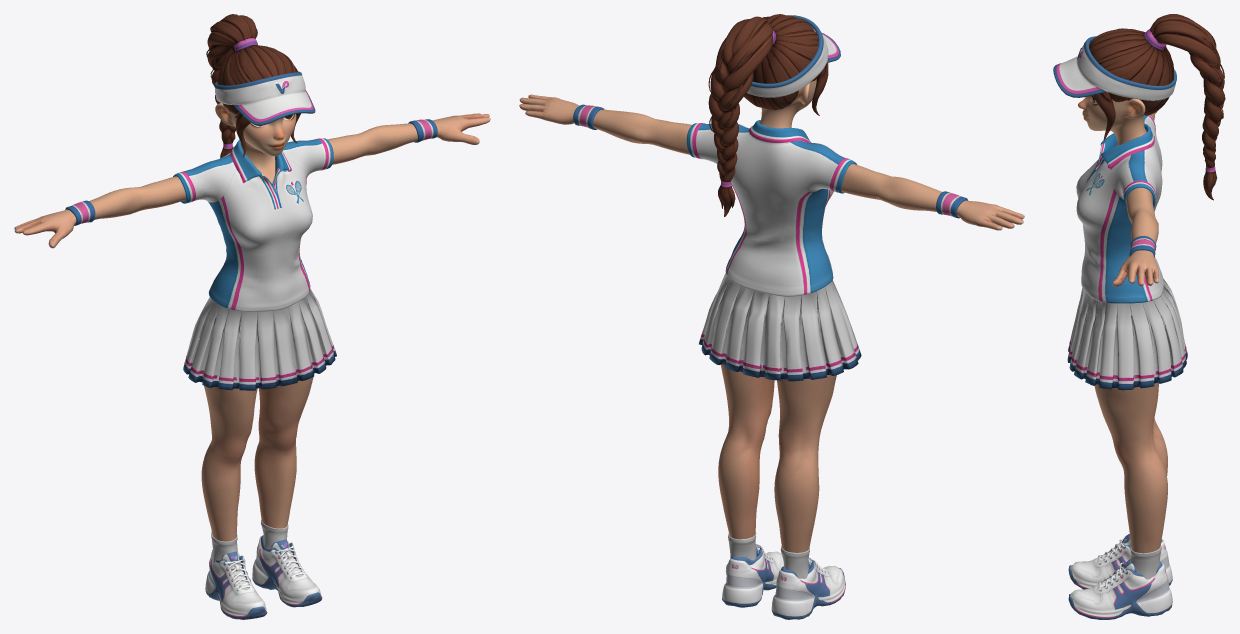
The model's file is carol_tennis_player_girl__animated_3d_character.glb.
The picture shows the model from 3 angles, left to right: view 1: azimuth 30°, elevation 25°; view 2: azimuth 150°, elevation 25°; view 3: azimuth 270°, elevation 25°; orthographic projection. The views are drawn at different scales.
Visible parts, largest first — view 1: body_8, shirt_4, skirt_3, sneakers_2, hair_6, cap_7, head_5, th1_0, socks_1; view 2: body_8, shirt_4, skirt_3, hair_6, sneakers_2, cap_7, socks_1, head_5, th1_0; view 3: body_8, shirt_4, skirt_3, hair_6, sneakers_2, cap_7, head_5, socks_1, th1_0.
Part boxes in pixels (x1,y1,x2,y2): body_8: (14,113,490,541); shirt_4: (173,138,333,311); skirt_3: (183,289,336,390); sneakers_2: (205,535,322,619); hair_6: (206,14,300,158); cap_7: (214,71,315,125); head_5: (215,103,296,182); th1_0: (65,119,437,225); socks_1: (211,519,288,562); body_8: (519,94,1024,552); shirt_4: (686,120,857,296); skirt_3: (699,273,861,381); hair_6: (708,14,828,216); sneakers_2: (722,544,845,619); cap_7: (747,15,840,97); socks_1: (728,532,809,578); head_5: (760,79,816,128); th1_0: (573,104,967,218); body_8: (1094,111,1167,553); shirt_4: (1076,115,1163,303); skirt_3: (1067,278,1187,390); hair_6: (1089,14,1225,200); sneakers_2: (1068,534,1172,619); cap_7: (1053,36,1176,100); head_5: (1078,95,1146,146); socks_1: (1130,545,1161,579); th1_0: (1129,236,1156,257).
Size of the model in its own units: 1.61 by 1.82 by 0.4878.
9 materials, 9 textured.
